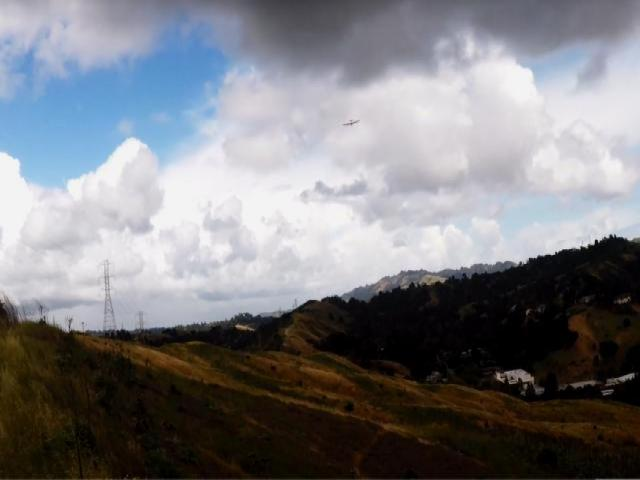iha: (340, 114, 360, 128)
